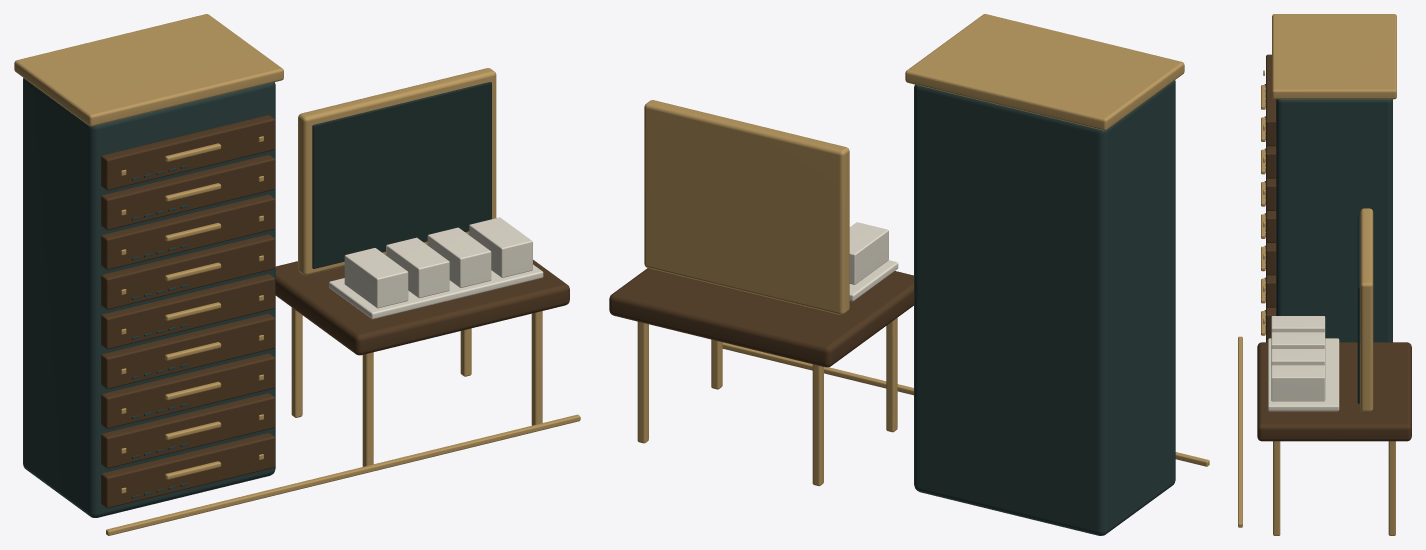
Rendered from tokke-display.glb.
3 renders of one model, left to right at view 1: azimuth 30°, elevation 25°; view 2: azimuth 150°, elevation 25°; view 3: azimuth 270°, elevation 25°, orthographic. The views are drawn at different scales.
Visible parts, largest first — view 1: Dark_oak, Archive_steel, Brushed_brass, Display_glass, Interpretive_paper; view 2: Archive_steel, Brushed_brass, Dark_oak, Interpretive_paper; view 3: Archive_steel, Brushed_brass, Dark_oak, Interpretive_paper, Display_glass.
Part boxes in pixels (x1,y1,x2,y2): Dark_oak: (101,115,569,508); Archive_steel: (23,78,275,517); Brushed_brass: (14,14,580,535); Display_glass: (312,82,491,268); Interpretive_paper: (329,217,543,319); Archive_steel: (914,80,1175,535); Brushed_brass: (637,14,1209,486); Dark_oak: (609,268,913,367); Interpretive_paper: (849,222,898,301); Archive_steel: (1264,84,1392,342); Brushed_brass: (1238,14,1396,535); Dark_oak: (1257,54,1411,441); Interpretive_paper: (1268,316,1339,411); Display_glass: (1357,216,1359,403).
Bounding box in the file's own units: 3.32 × 2.82 × 1.29.
